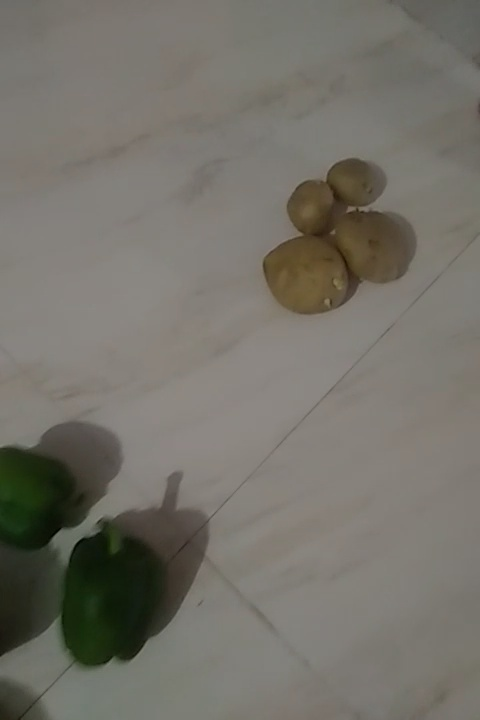capsicum: (64, 516, 157, 662), (1, 450, 78, 547)
potato: (260, 238, 355, 316), (330, 206, 415, 287), (330, 154, 384, 208), (285, 178, 335, 235)
